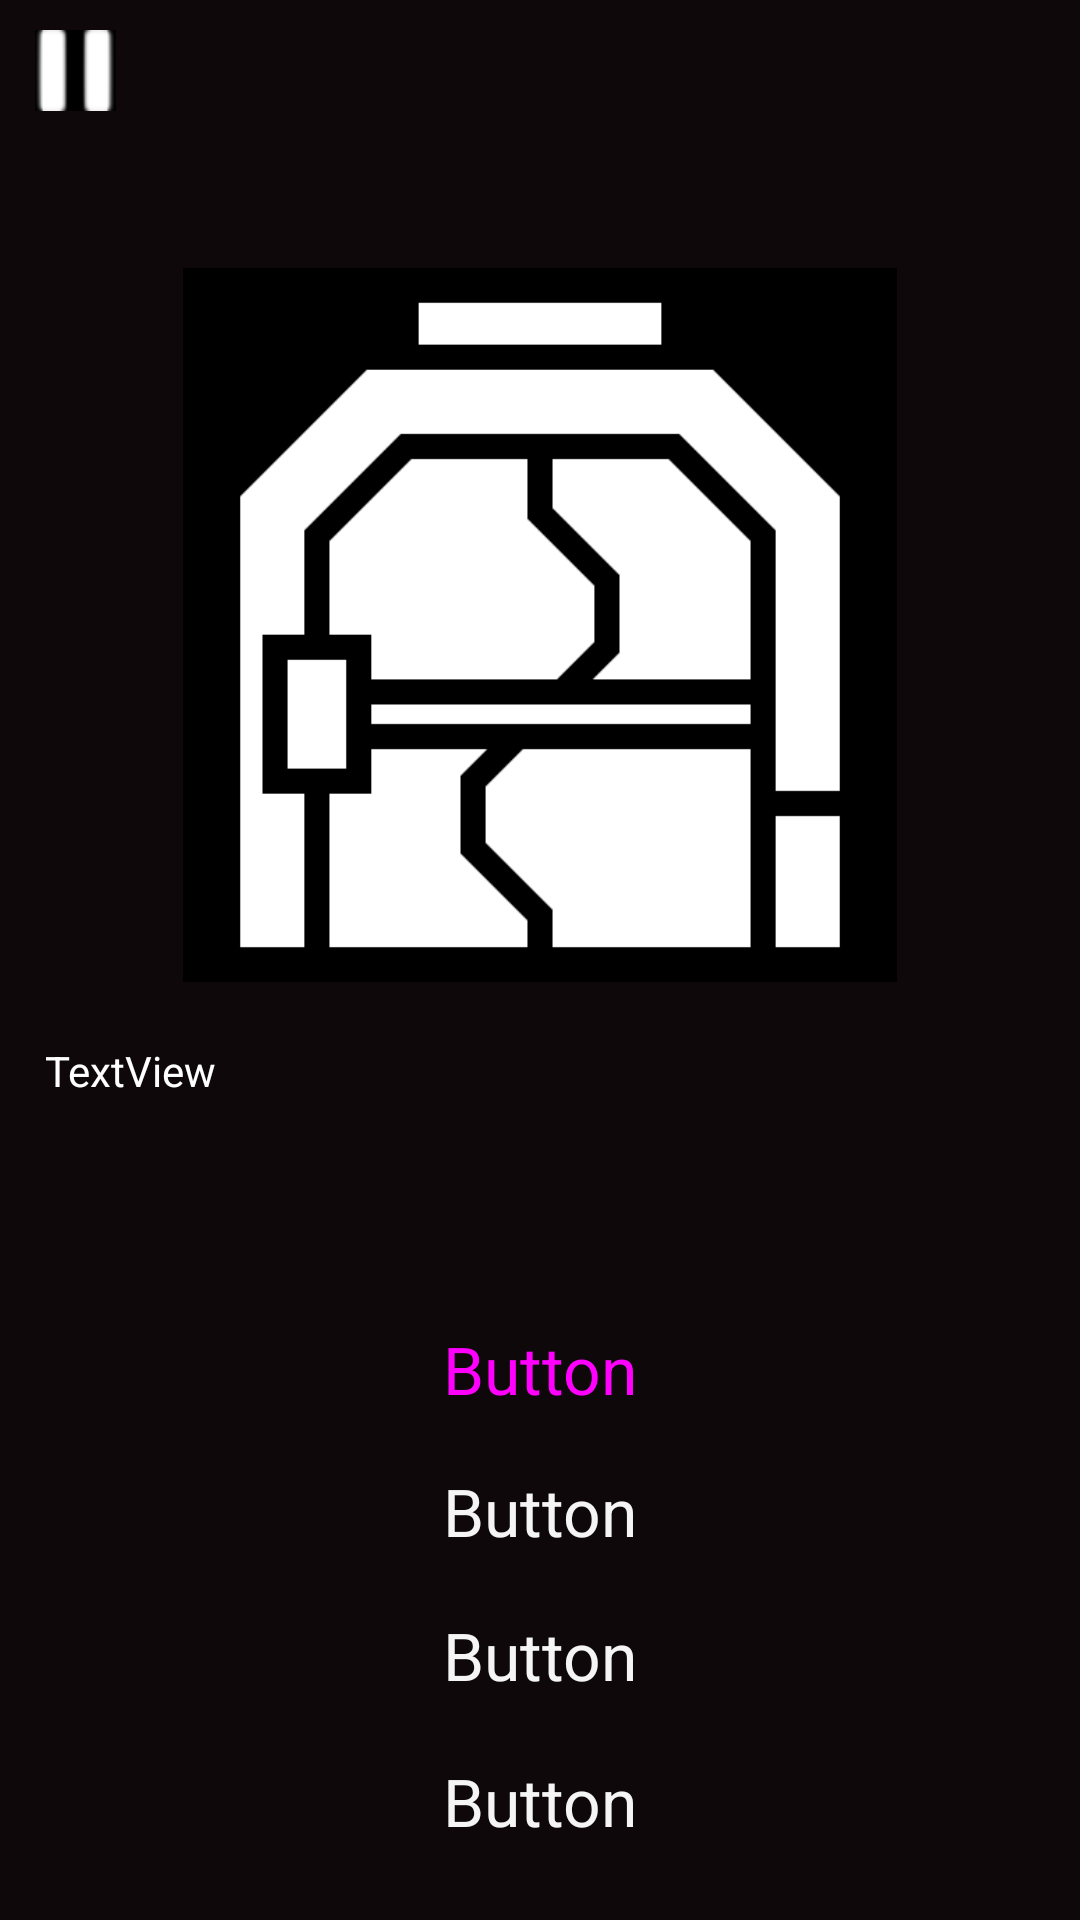

Screen size 1080 x 1920. Icon name, then its box in pixels as (left=x1, top=y1, right=x2, bottom=y2):
pause: (left=37, top=30, right=113, bottom=111)
